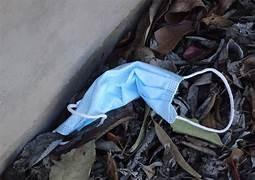Mask: (55, 61, 233, 134)
